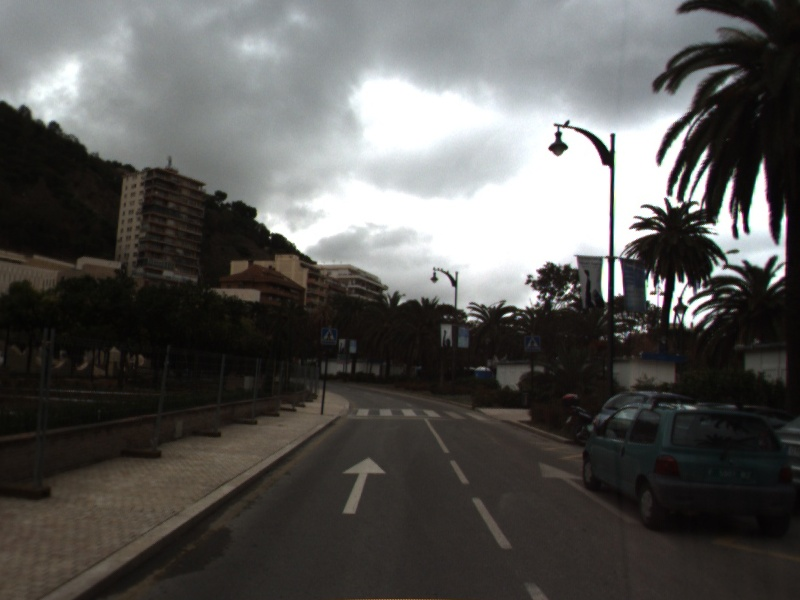STRAIGHT: (538, 460, 643, 525), (340, 455, 388, 515)
